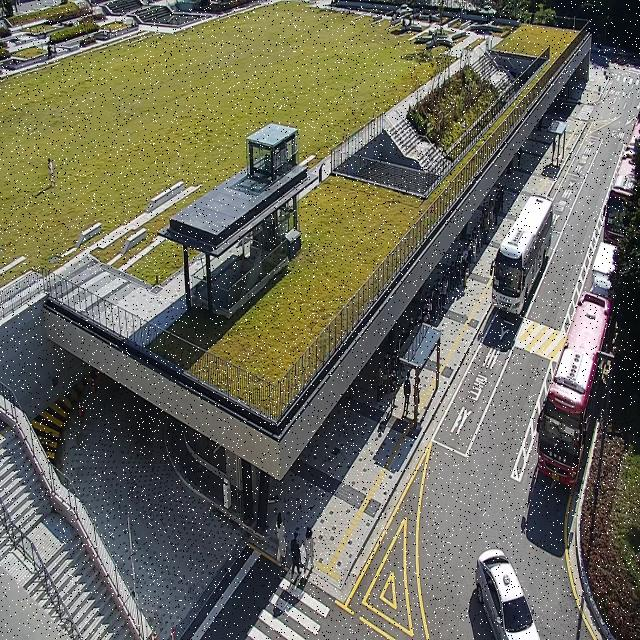queue: (415, 181, 505, 434)
